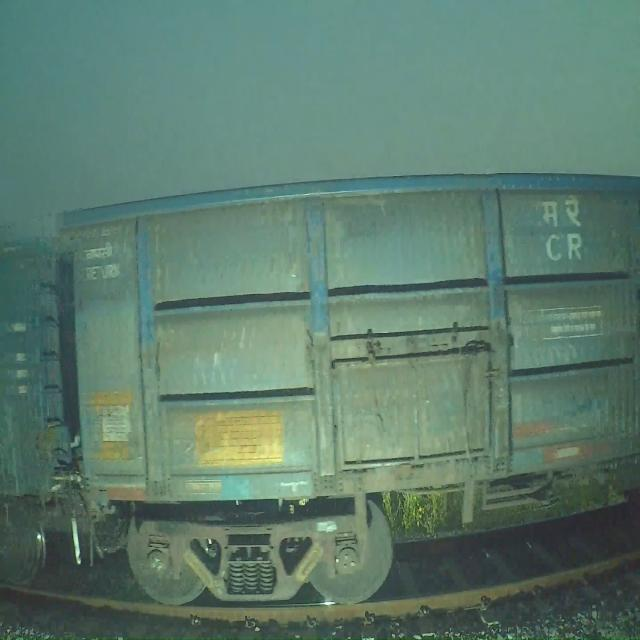WAgon-uic: (50, 168, 640, 611), (0, 228, 129, 592)
